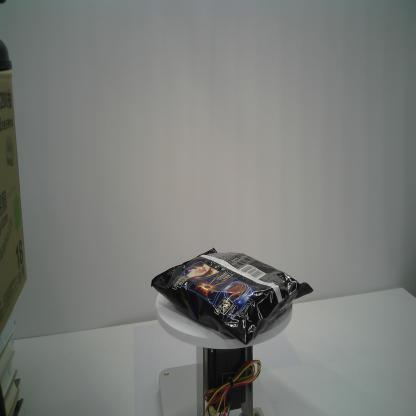Instant Noodles: (150, 247, 314, 347)
